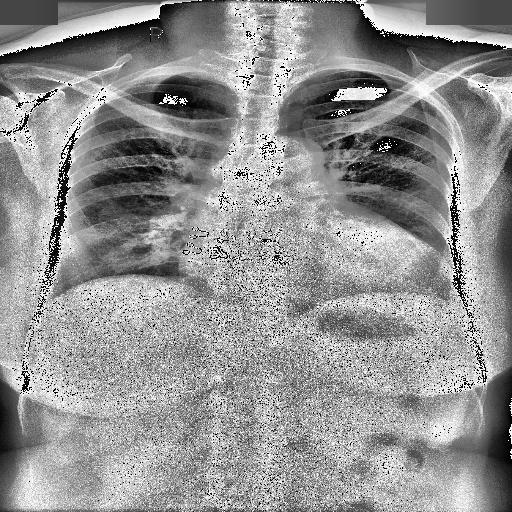0- Aortic enlargement: (265, 134, 329, 191), (262, 136, 322, 191)
13- Pulmonary fibrosis: (103, 208, 170, 271)
3- Cardiomegaly: (170, 227, 448, 296), (182, 239, 448, 298), (180, 244, 452, 293)
6- Infiltration: (103, 208, 170, 271)
